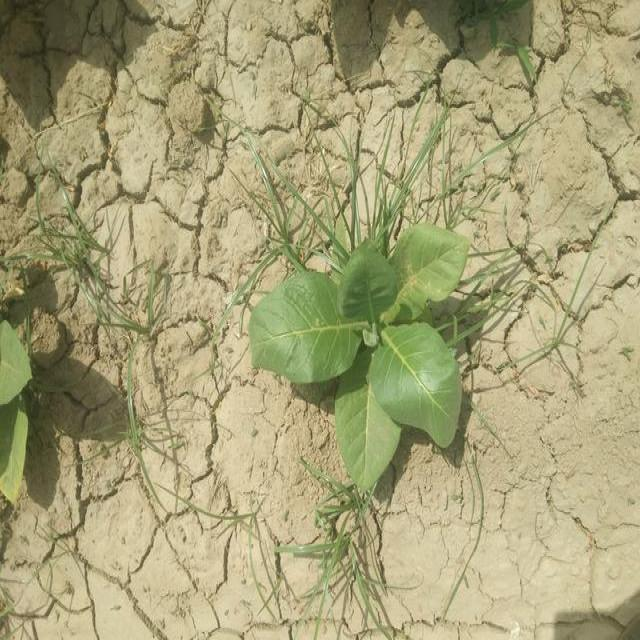crop: (255, 224, 466, 499)
